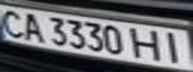0: (103, 22, 127, 56)
3: (42, 15, 69, 47), (81, 20, 106, 53), (63, 17, 87, 51)
A: (18, 10, 45, 43)
C: (0, 7, 30, 38)
H: (130, 25, 166, 62)
I: (157, 29, 190, 64)
